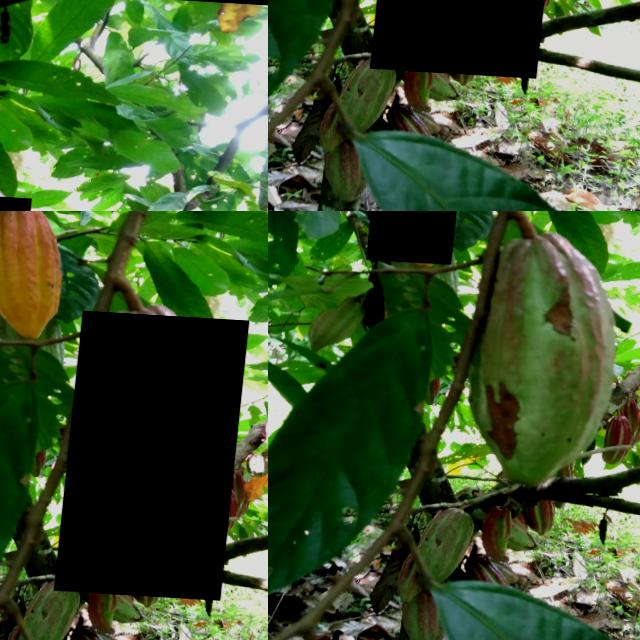Monilia: (64, 308, 253, 596), (380, 0, 569, 73)
Sana: (466, 227, 630, 494), (408, 507, 485, 597), (370, 211, 465, 261), (310, 293, 379, 353), (418, 593, 454, 640), (496, 498, 522, 560), (613, 406, 637, 463), (537, 494, 563, 530)
